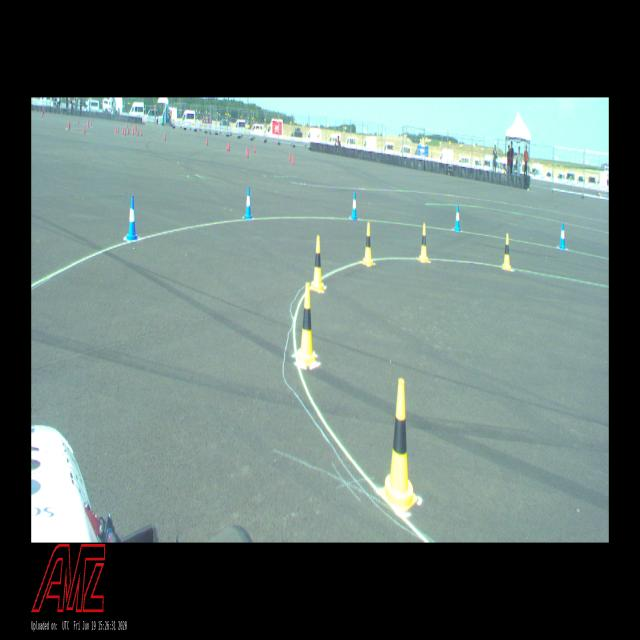blue_cone: (126, 196, 138, 240), (244, 186, 252, 218), (454, 205, 461, 231), (559, 223, 566, 249), (351, 192, 357, 219)
orange_cone: (83, 125, 85, 134)
yellow_cone: (383, 378, 418, 508), (297, 282, 316, 360), (310, 236, 326, 291), (362, 222, 374, 266), (418, 224, 430, 262), (502, 234, 511, 269)
